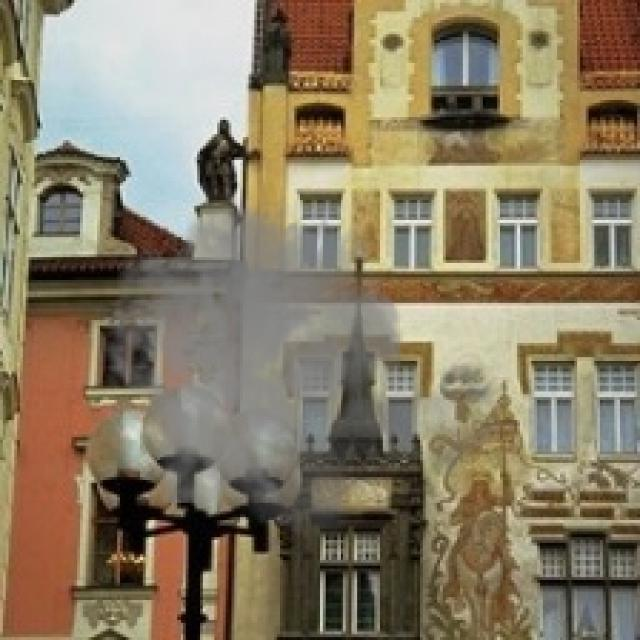smoke: (94, 180, 512, 549)
